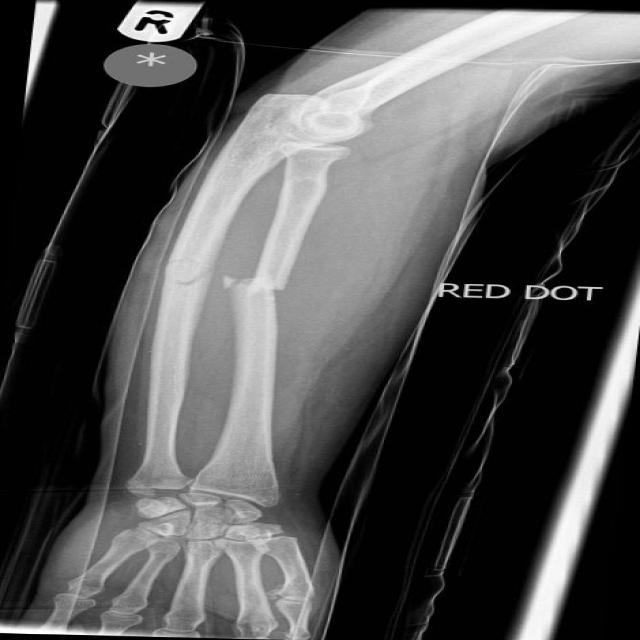Transverse Displaced: (214, 260, 305, 304), (141, 252, 218, 299)
